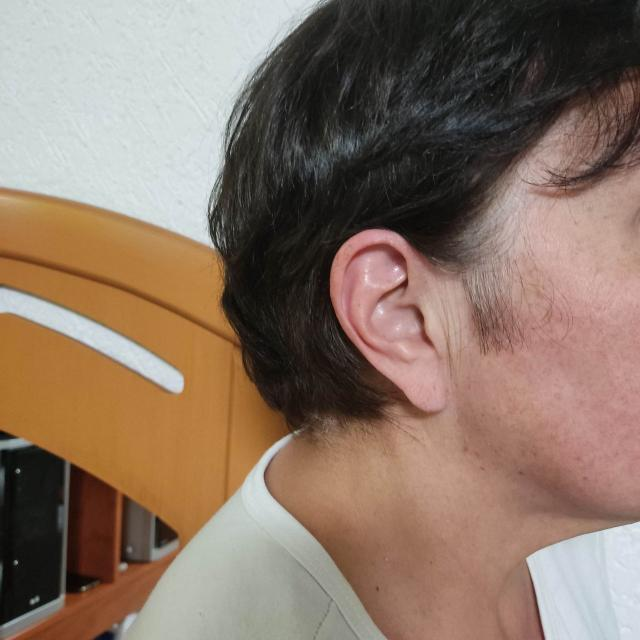ear: (331, 231, 446, 412)
